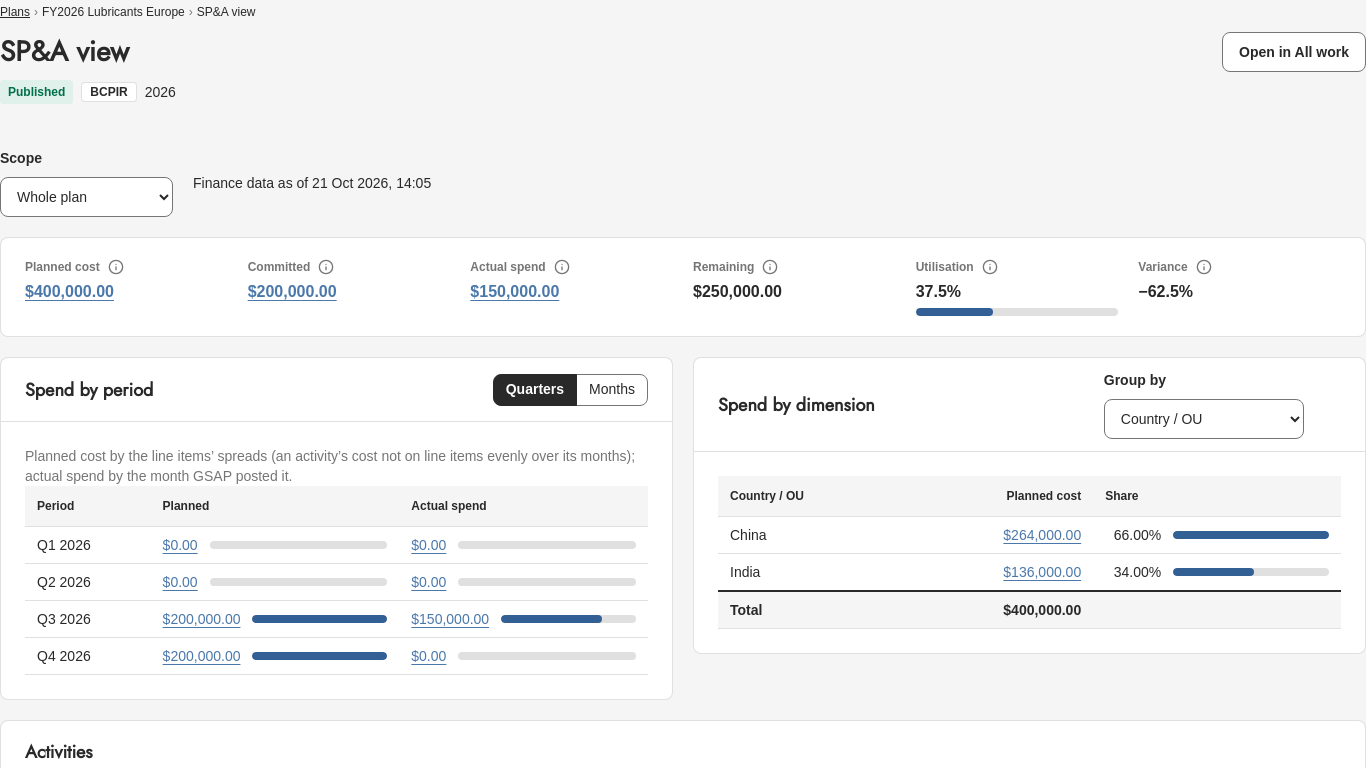
Test: SpaPage figures (013 FR-007, FR-009, FR-014 – FR-016) › lists the activities behind a figure, adding up to it
expect the element named "Headline figures" is shown: met, box [0,237,1365,337]
Click the button named "$200,000.00, show what makes up Committed" at (292, 292), box [248,280,337,304]
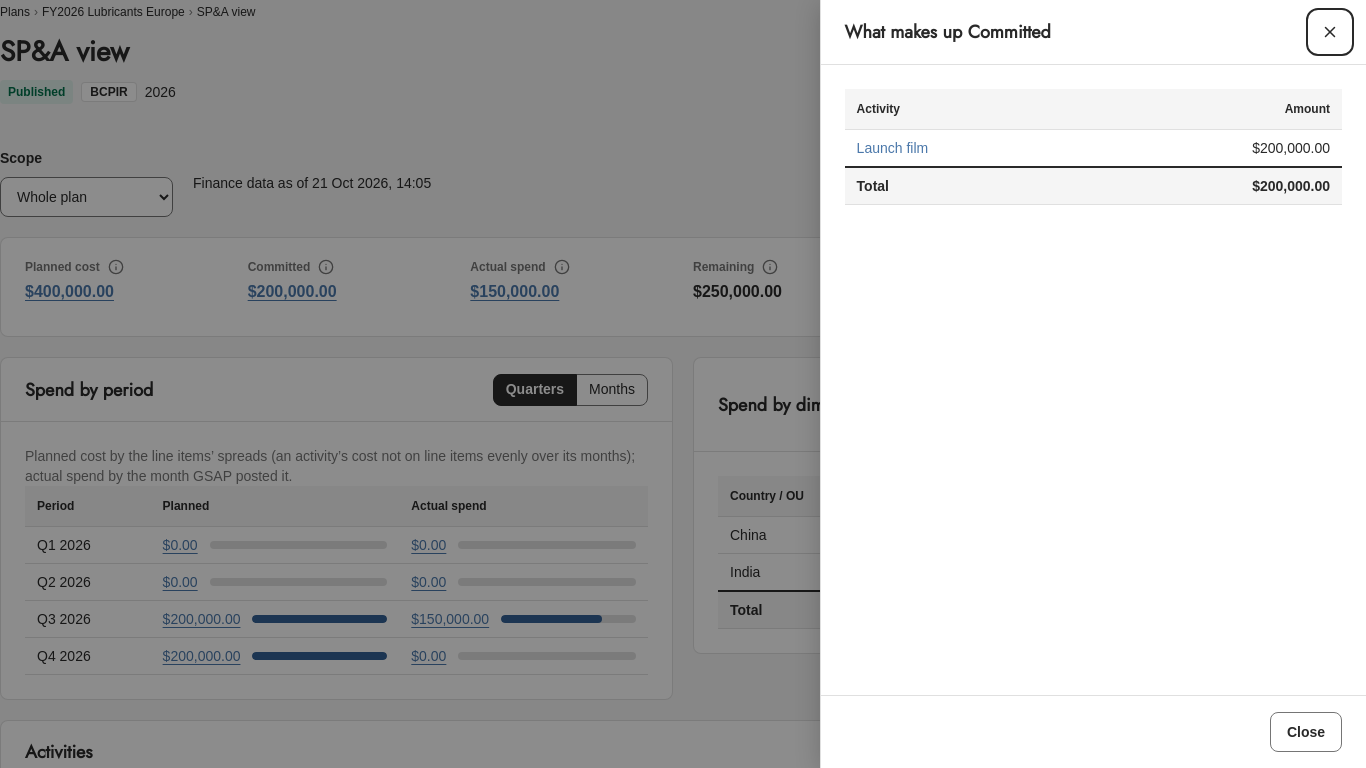
expect the row "Total $200,000.00" is shown: met, box [845,166,1342,204]
